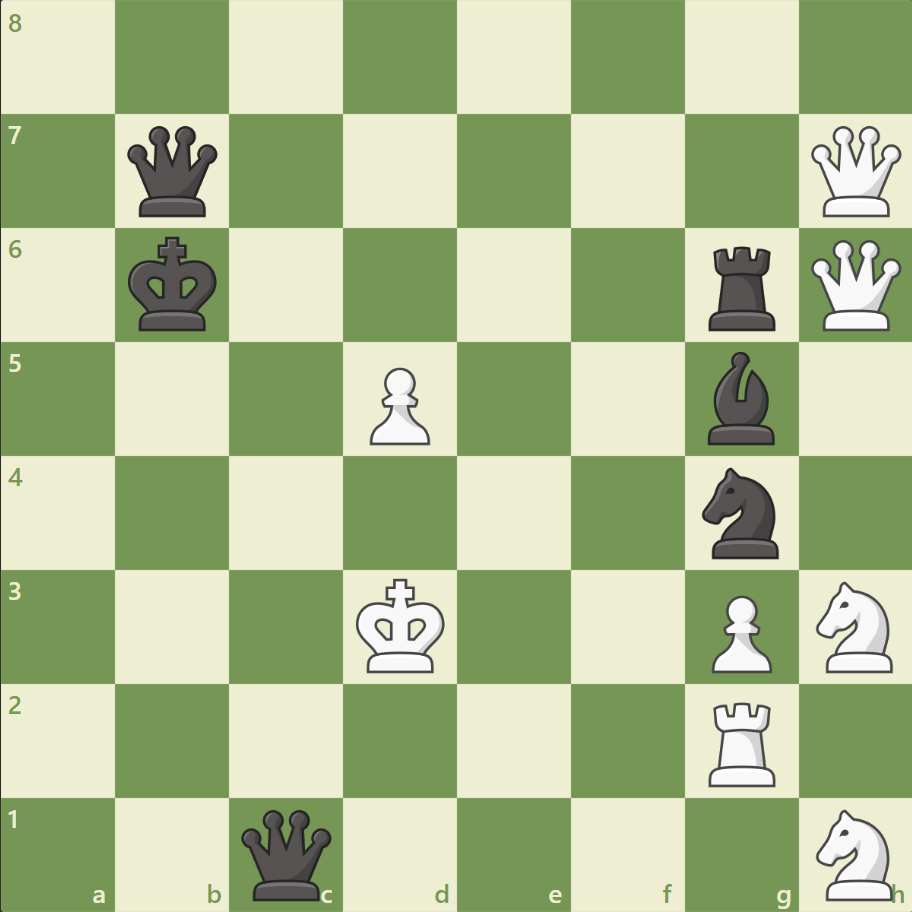K: (351, 571, 451, 679)
N: (806, 575, 903, 677), (806, 802, 903, 904)
P: (701, 586, 776, 677), (361, 359, 435, 450)
Q: (805, 122, 904, 222), (805, 236, 904, 335)
R: (700, 693, 783, 790)
b: (698, 347, 782, 449)
k: (124, 231, 224, 339)
n: (692, 461, 789, 564)
q: (124, 122, 223, 222), (237, 804, 336, 903)
r: (700, 239, 783, 336)
